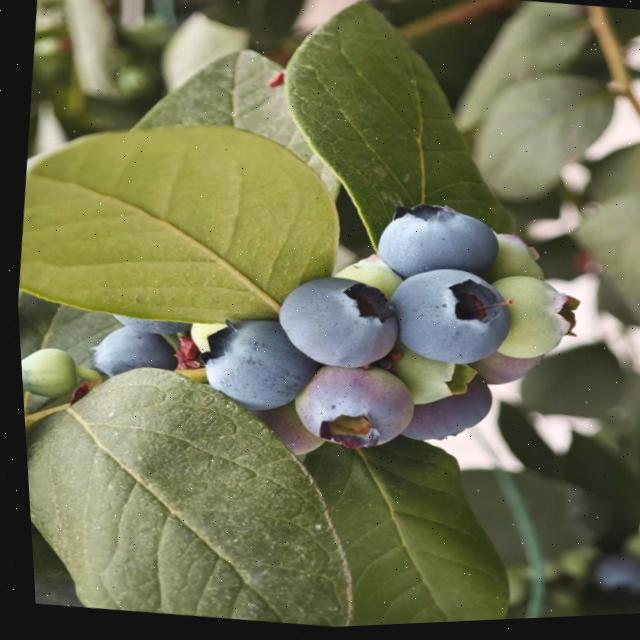RipeBlueBerry: (382, 264, 514, 372), (270, 271, 401, 376)
Semi-RipeBlueBerry: (281, 358, 416, 459)
